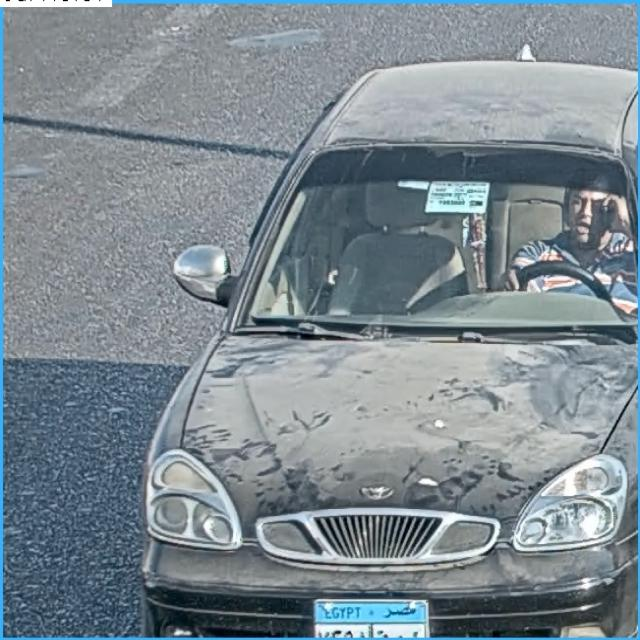windshield: (239, 149, 635, 324)
